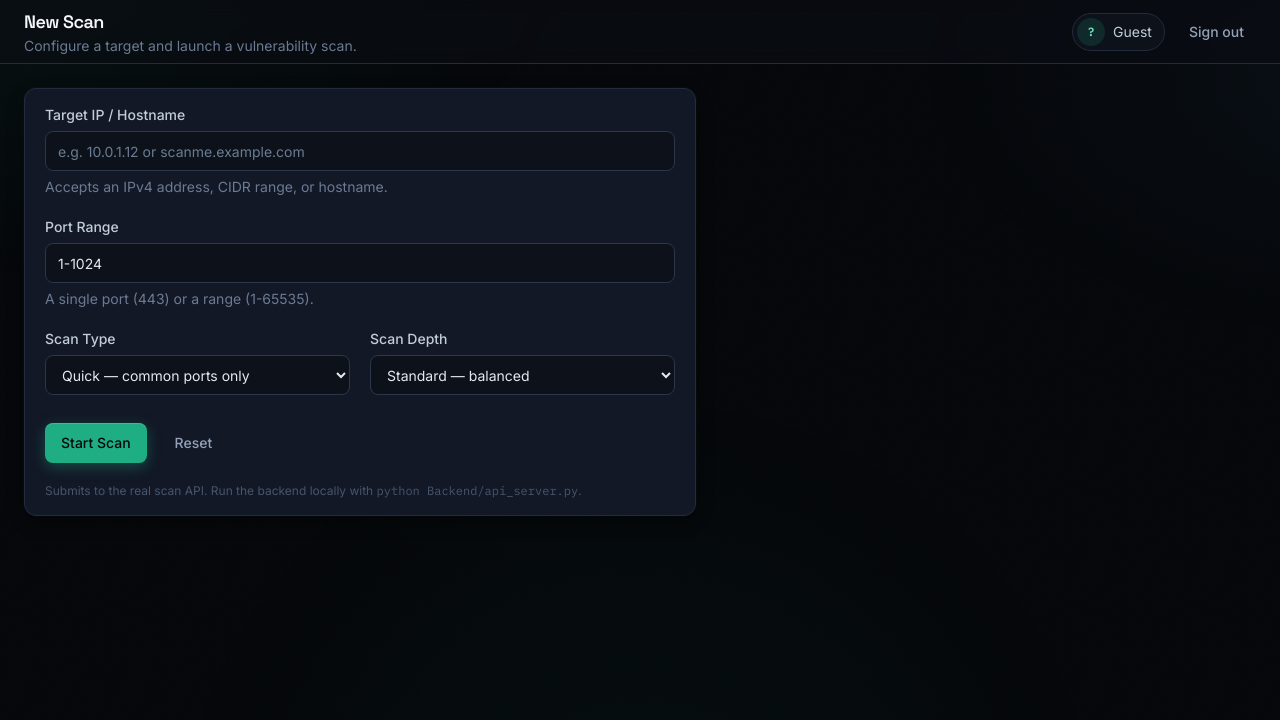
Test: NewScan › shows a validation error for an invalid target
In the field labelled "Target IP / Hostname": (360,151) 45,131 -> 675,171, type "not a valid host!!"
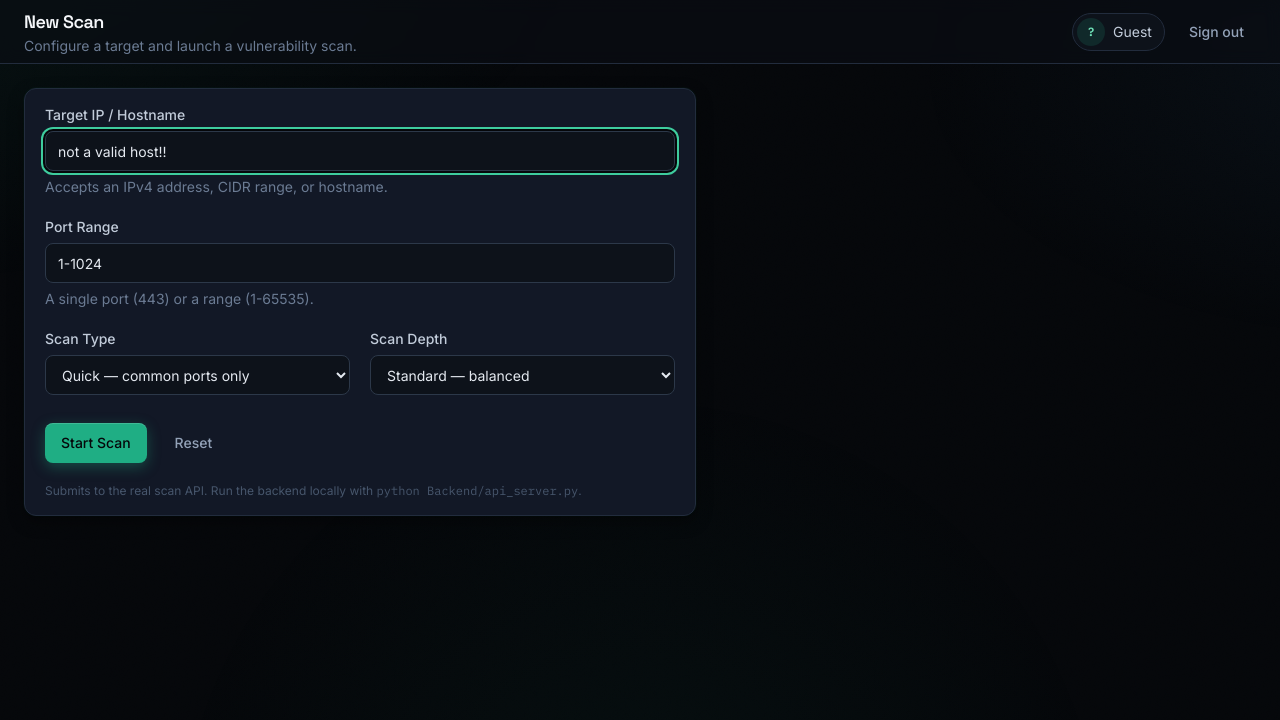
Click the button "Start Scan": (96,443) 45,423 -> 147,463
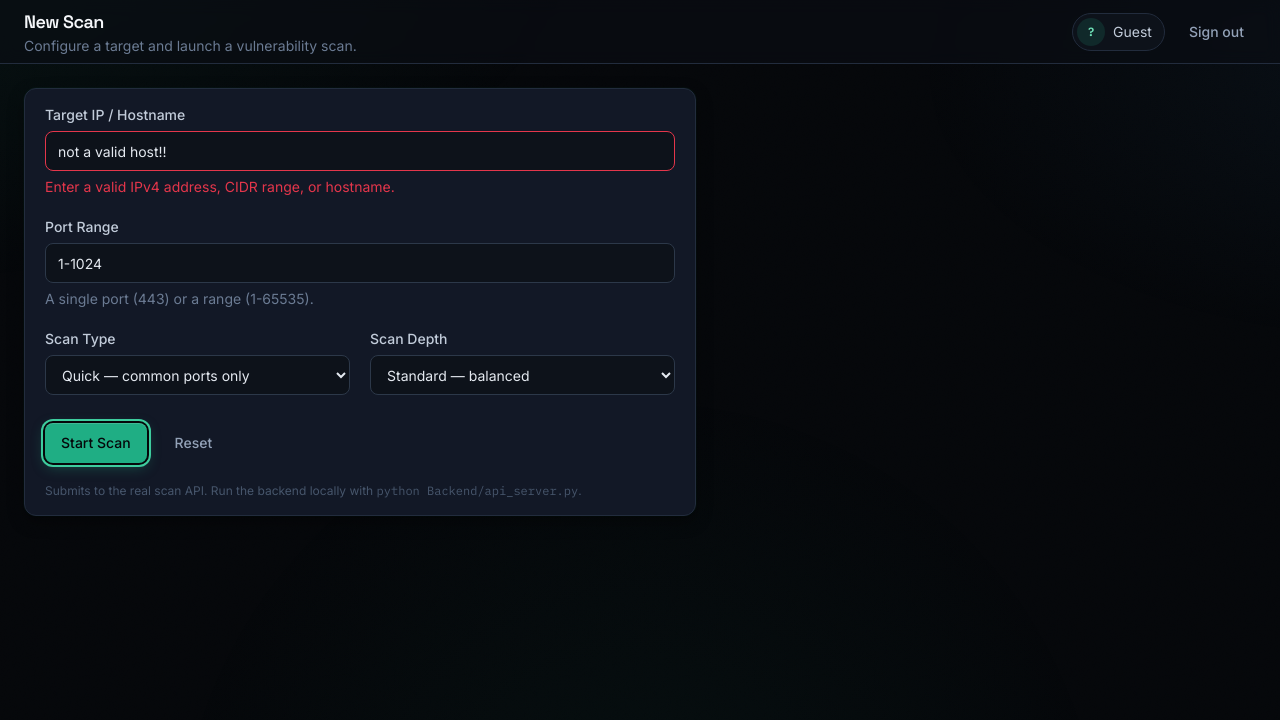
Expected: the text "Enter a valid IPv4 address, CIDR range, or hostname." is shown, 45,178 -> 395,195
